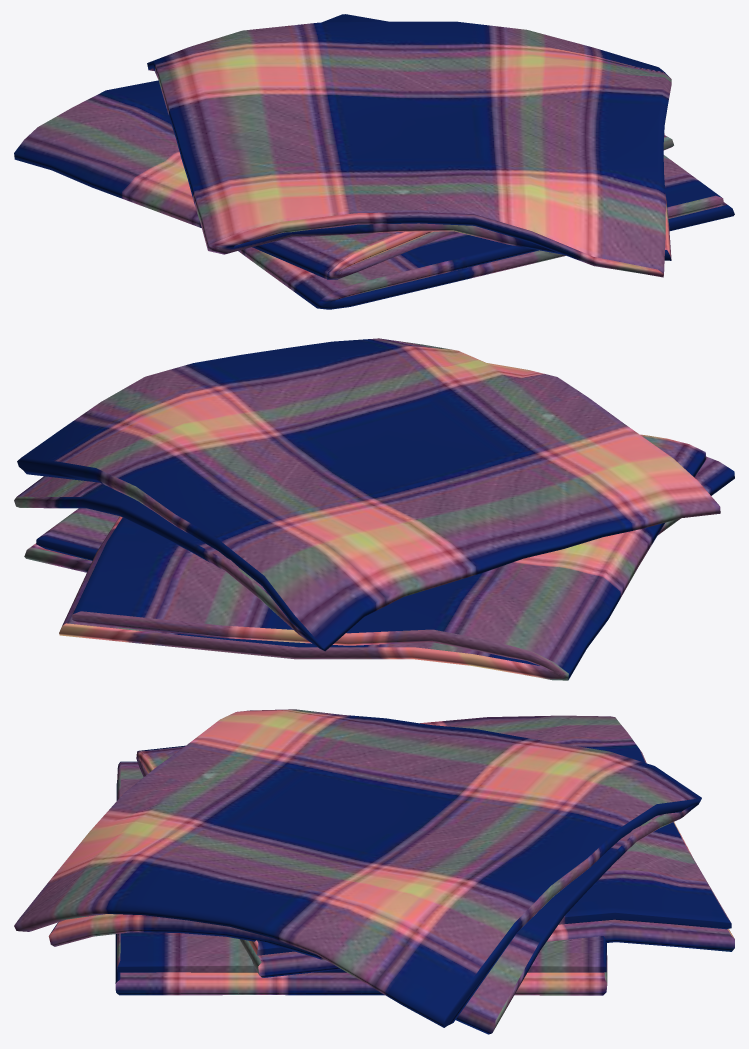
The model's file is New_hankerchif.fbx.
The picture shows the model from 3 angles, top to bottom: view 1: azimuth 30°, elevation 25°; view 2: azimuth 150°, elevation 25°; view 3: azimuth 270°, elevation 25°; orthographic projection. The views are drawn at different scales.
Visible parts, largest first — view 1: Hankerchif; view 2: Hankerchif; view 3: Hankerchif.
Part boxes in pixels (<box>): Hankerchif: <box>14,14,734,309</box>; Hankerchif: <box>14,338,734,680</box>; Hankerchif: <box>14,709,734,1034</box>.
Bounding box in the file's own units: 16.15 × 2.18 × 16.36.
